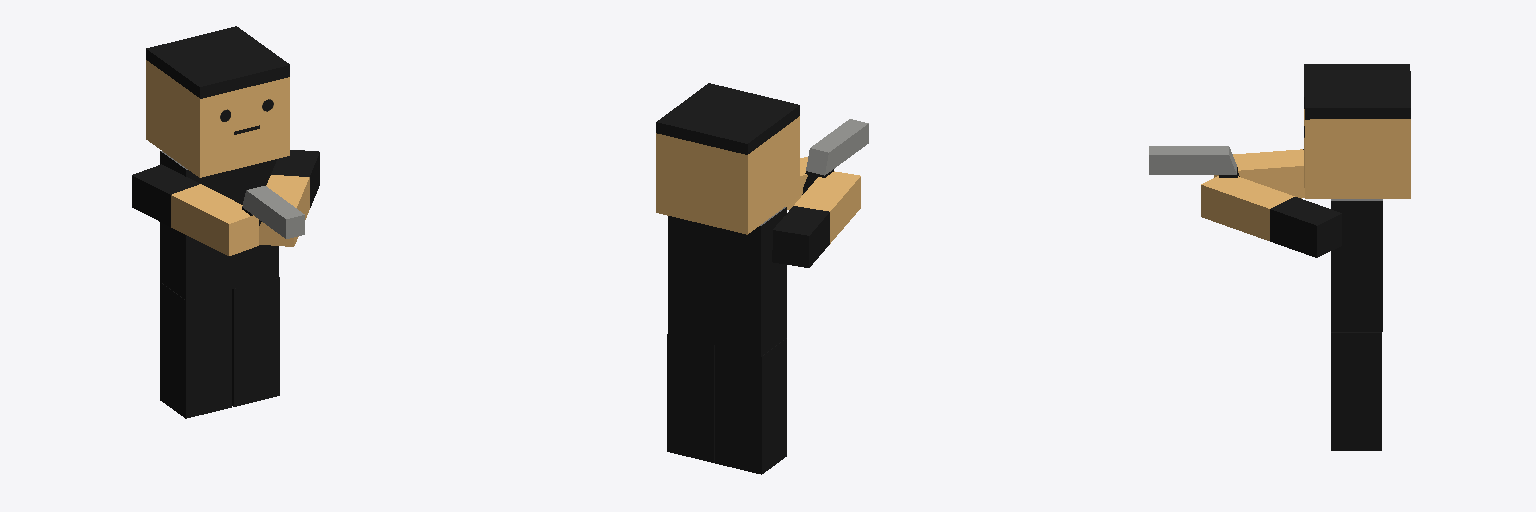
3 views of the same model, side by side, from view 1: azimuth 30°, elevation 25°; view 2: azimuth 150°, elevation 25°; view 3: azimuth 270°, elevation 25° (orthographic).
Parts seen in each view (by area): view 1: head:pCube8; view 2: head:pCube8; view 3: head:pCube8.
Boxes of the visible parts, box(x1,y1,x2,y2) form: head:pCube8: box(132, 26, 319, 418); head:pCube8: box(656, 83, 868, 474); head:pCube8: box(1149, 64, 1410, 450).
Bounding box in the file's own units: 3.48 × 6.85 × 4.77.
3 materials, 1 textured.